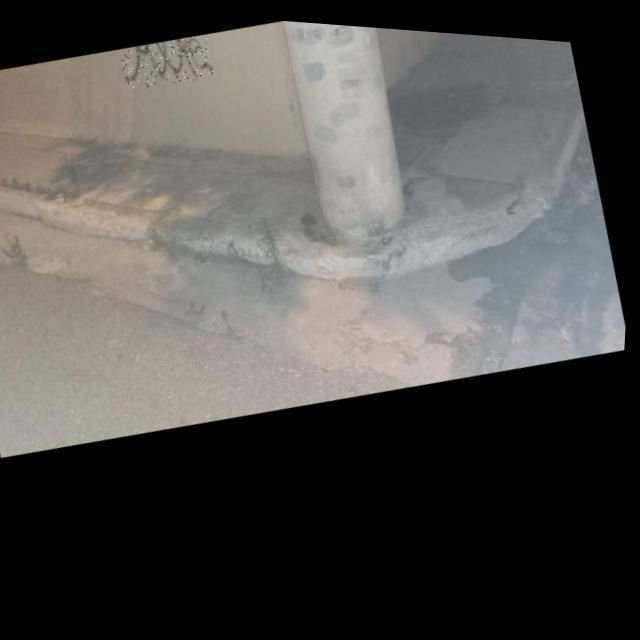-: (118, 26, 216, 94)
